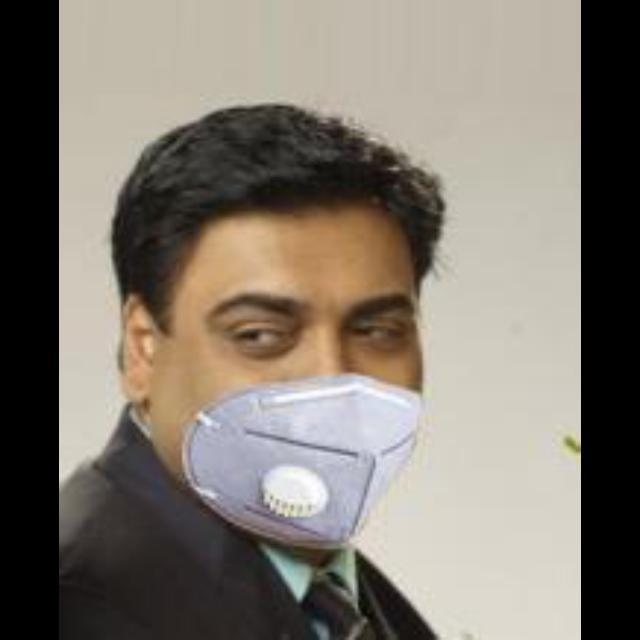suspicion: (105, 120, 457, 528)
